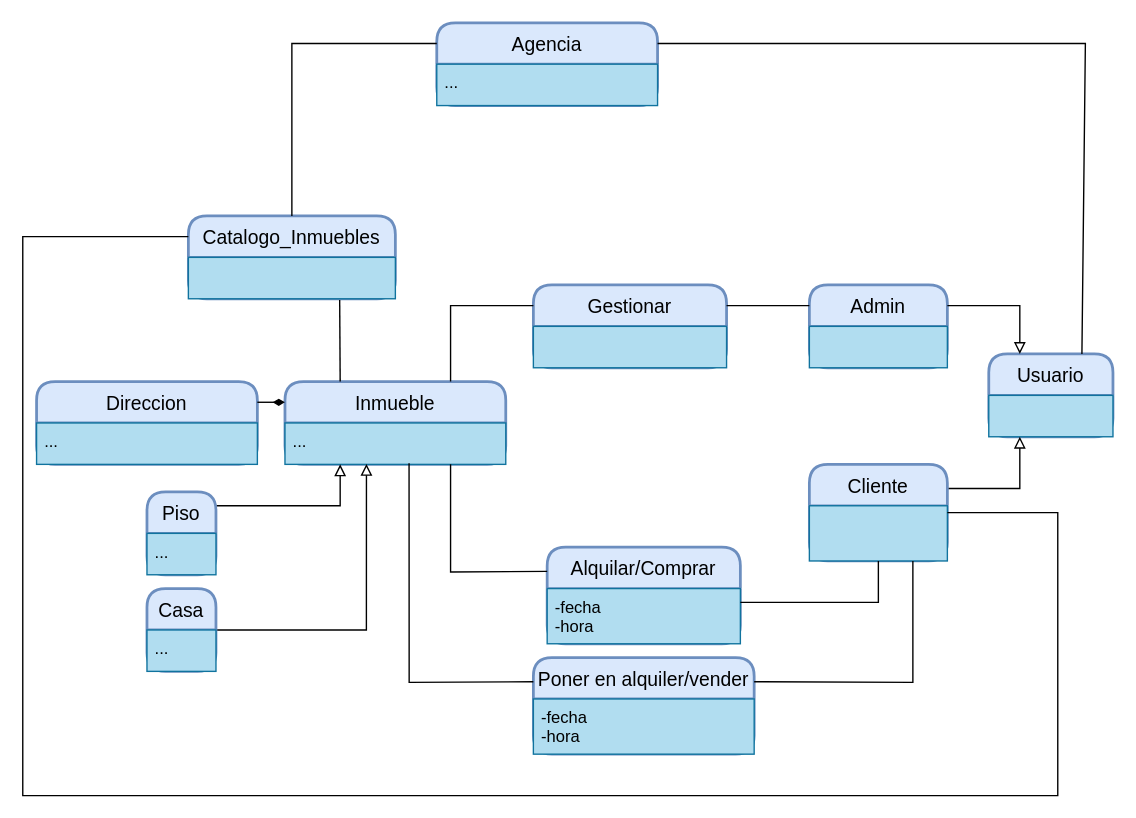
Some shapes in this 1136 by 818 pixel diagram are drawn without their labels. The shapes that lost their labels are listed below. From the top down, each one's centre as x and y in pixels, then its label:
[877,346]: -passAdmin
[1050,415]: -codUsr
[877,532]: -nickname -contrasenha
